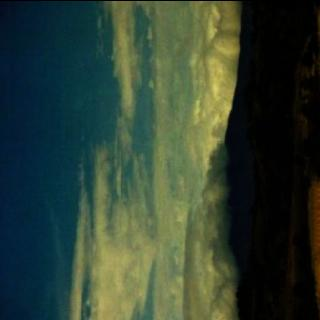Stratocumulus: (36, 0, 255, 320)
